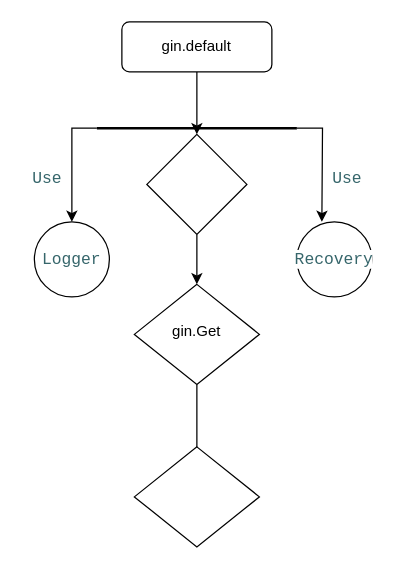
The diagram is 395 pixels wide and 569 high, and some of its shapes have lost their labels. Here are the shapes that lost their labels. From the top down, the centre of each, then its label:
At point 196,183: "gin.new".
At point 196,496: "gin.Run".
